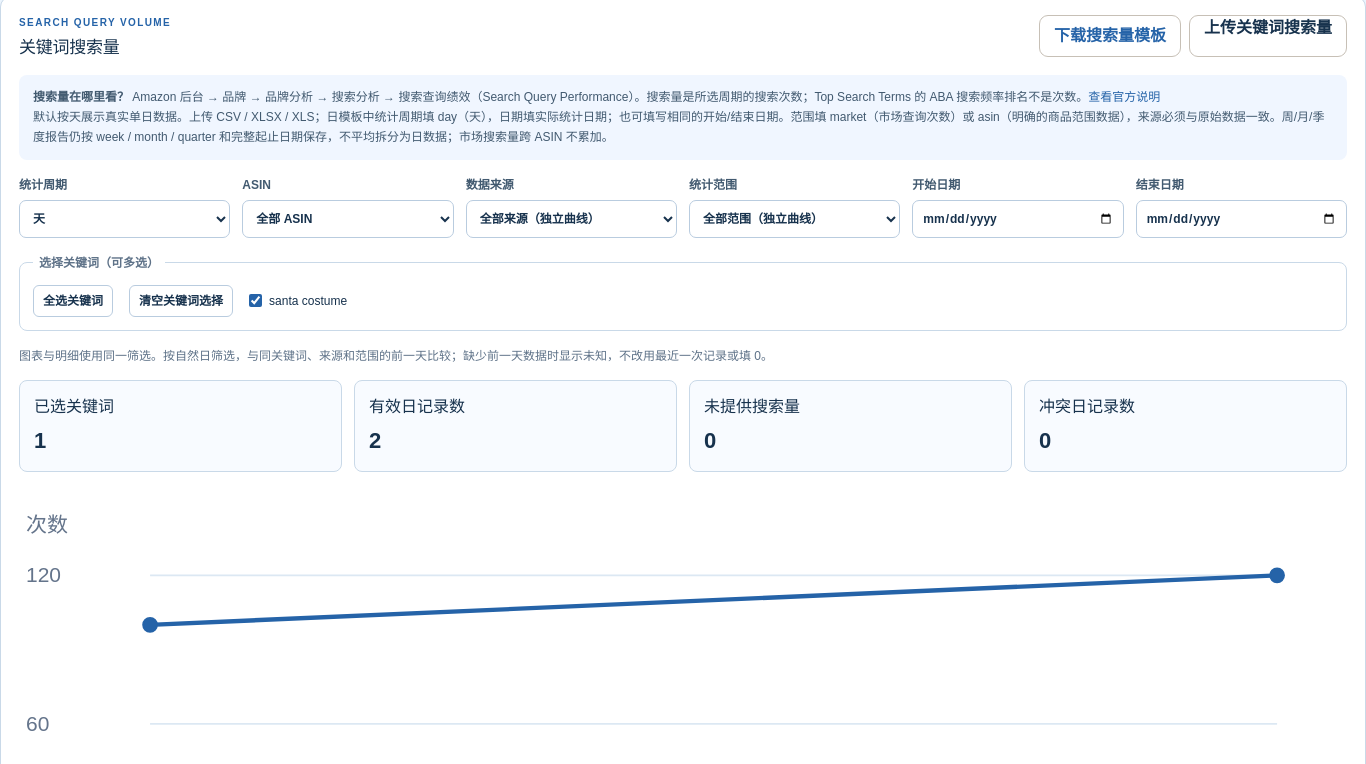
defaults to daily observations and never redistributes a weekly total into days
Check: the table "搜索量每日明细" does not show "777"
Select "周（原报告）" in the dropdown named "搜索量统计周期" at (125, 219), box x1=19 y1=200 x2=230 y2=238
(page scrolled)
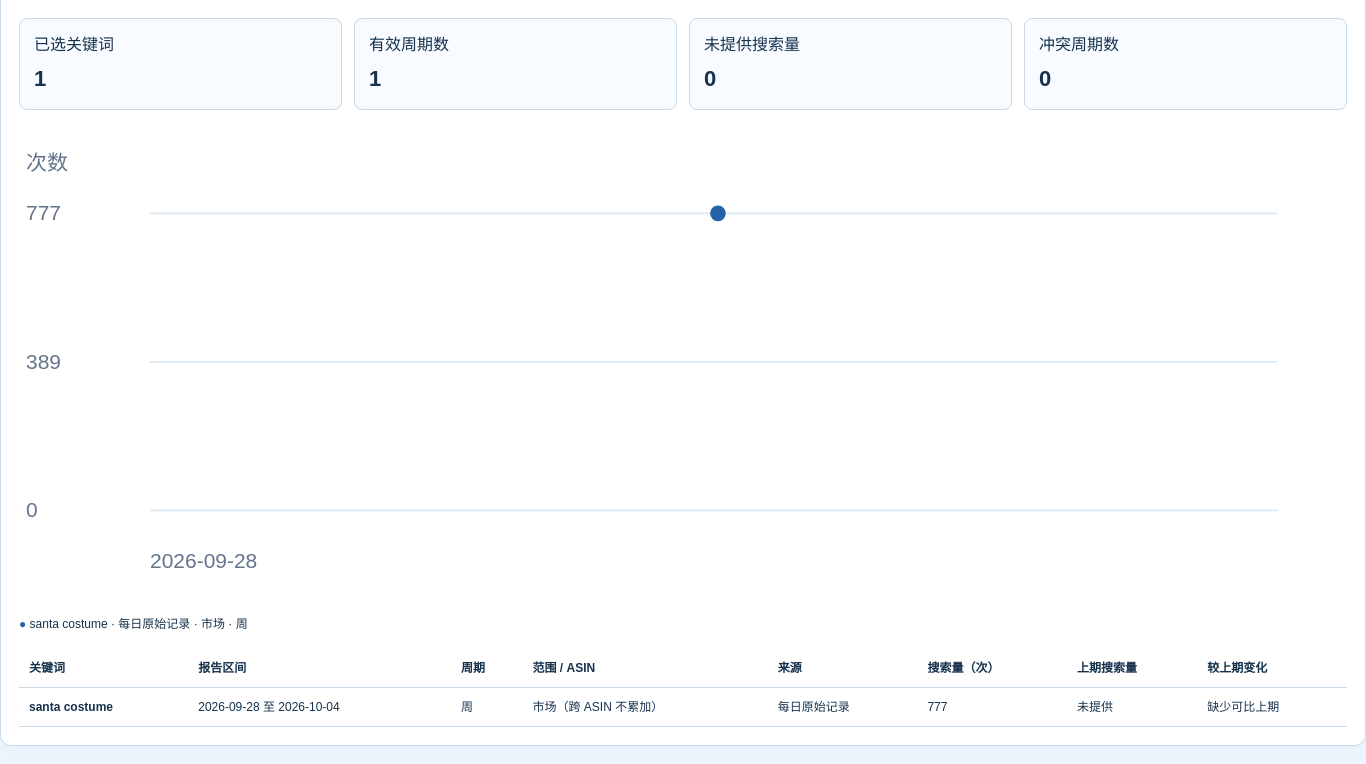
Check: the table named "搜索量周期明细" shows "777", box x1=927 y1=700 x2=947 y2=714
